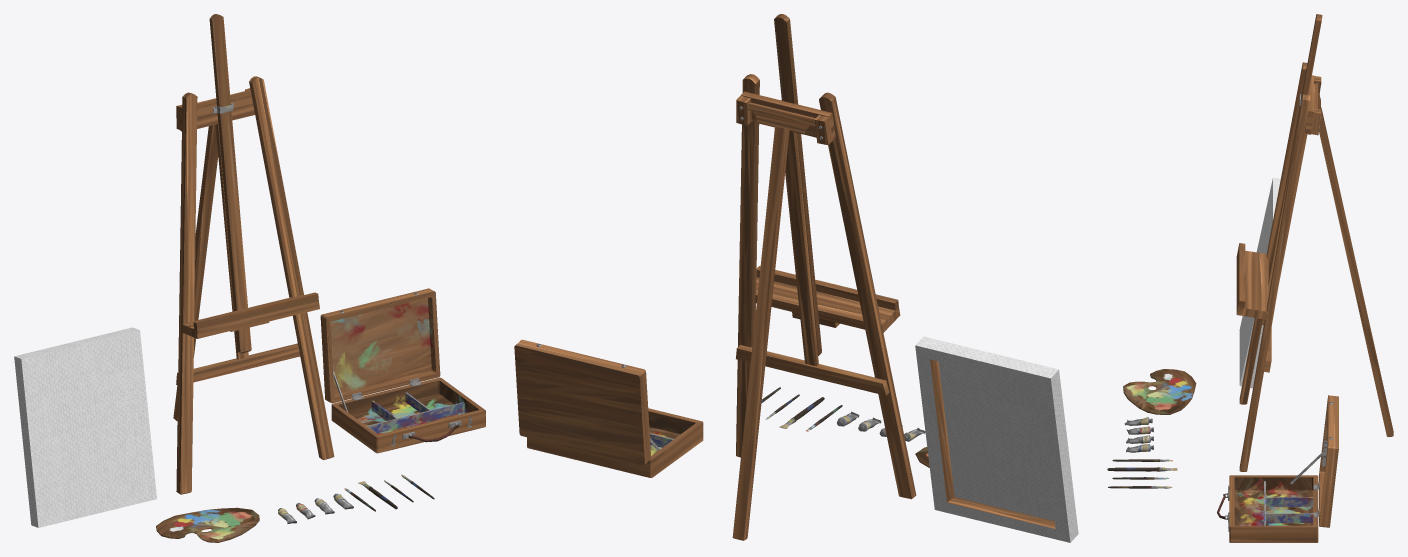
File: painting_prop_set.glb
3 renders of one model, left to right at view 1: azimuth 30°, elevation 25°; view 2: azimuth 150°, elevation 25°; view 3: azimuth 270°, elevation 25°, orthographic. The views are drawn at different scales.
Visible parts, largest first — view 1: EaselMerged, Canvas, ArtBoxMerged, Palette; view 2: EaselMerged, Canvas, ArtBoxMerged; view 3: EaselMerged, ArtBoxMerged, Palette, Canvas.
Part boxes in pixels (x1=…): EaselMerged: x1=173, y1=14, x2=334, y2=494; Canvas: x1=14, y1=327, x2=156, y2=527; ArtBoxMerged: x1=320, y1=288, x2=485, y2=453; Palette: x1=156, y1=507, x2=259, y2=542; EaselMerged: x1=732, y1=14, x2=916, y2=540; Canvas: x1=915, y1=336, x2=1078, y2=542; ArtBoxMerged: x1=514, y1=339, x2=703, y2=477; EaselMerged: x1=1236, y1=14, x2=1393, y2=471; ArtBoxMerged: x1=1217, y1=395, x2=1338, y2=542; Palette: x1=1123, y1=369, x2=1196, y2=414; Canvas: x1=1239, y1=177, x2=1280, y2=388.
Size of the model in its own units: 0.4716 by 0.4421 by 0.2714.
Materials: 2 (2 with a texture image).
